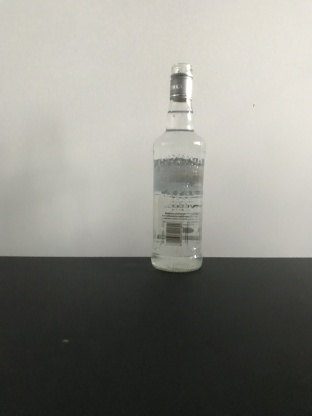nakretka: (168, 60, 194, 103)
